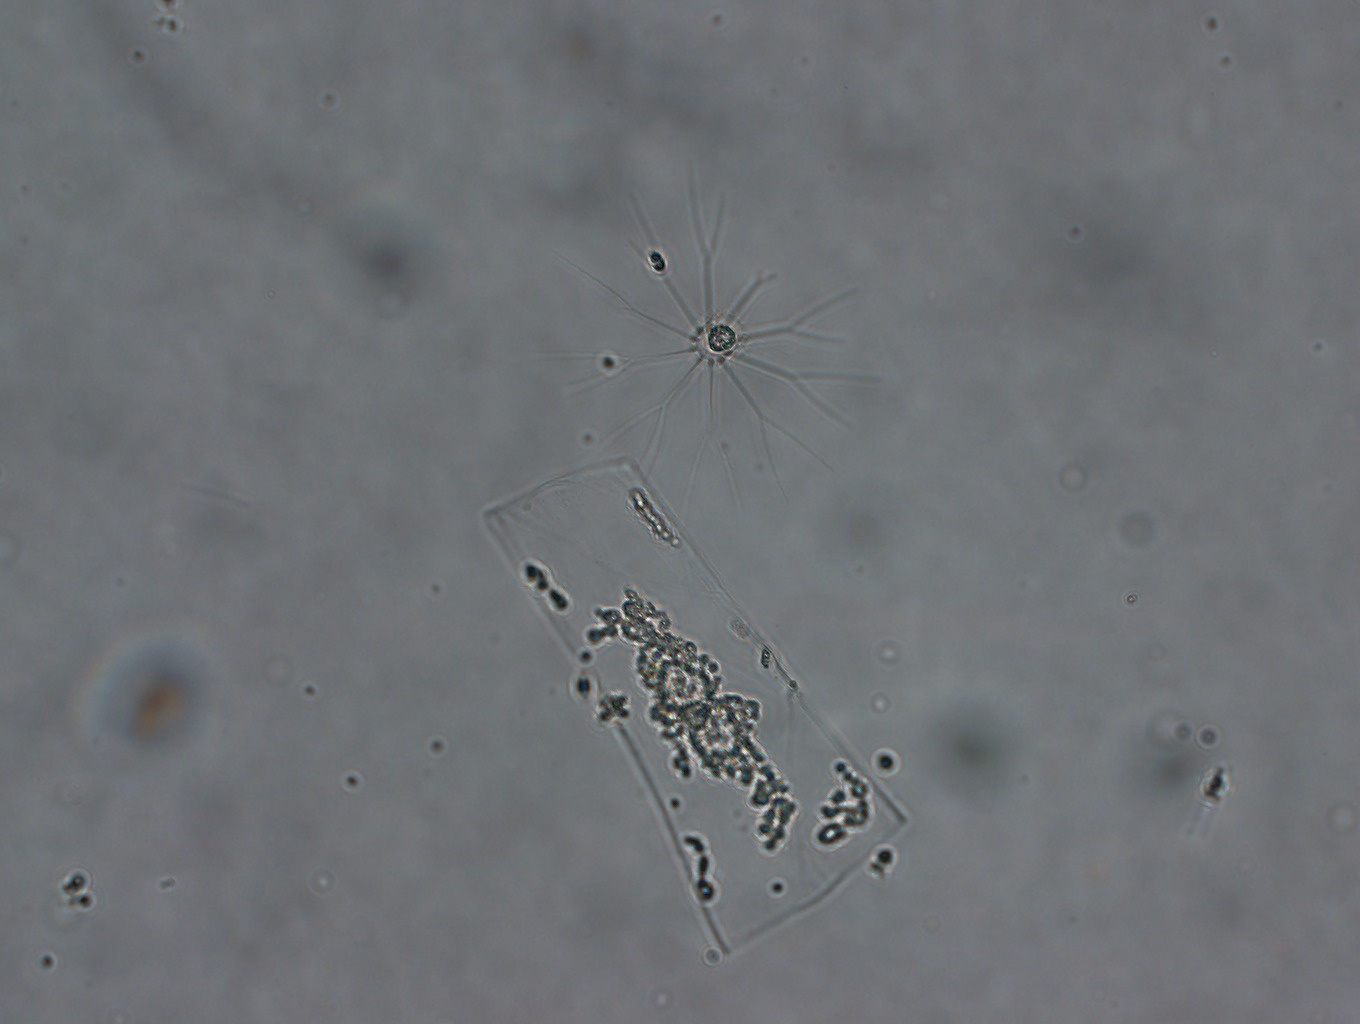bacteriastrum: (557, 159, 884, 522)
helicotheca: (457, 451, 922, 968)
